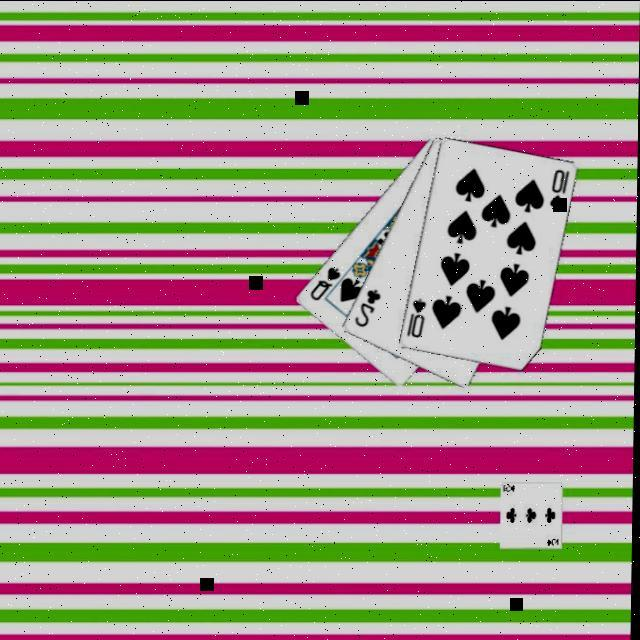10S: (406, 296, 432, 342), (549, 167, 574, 213)
2C: (354, 286, 387, 331)
QS: (309, 264, 346, 304)
